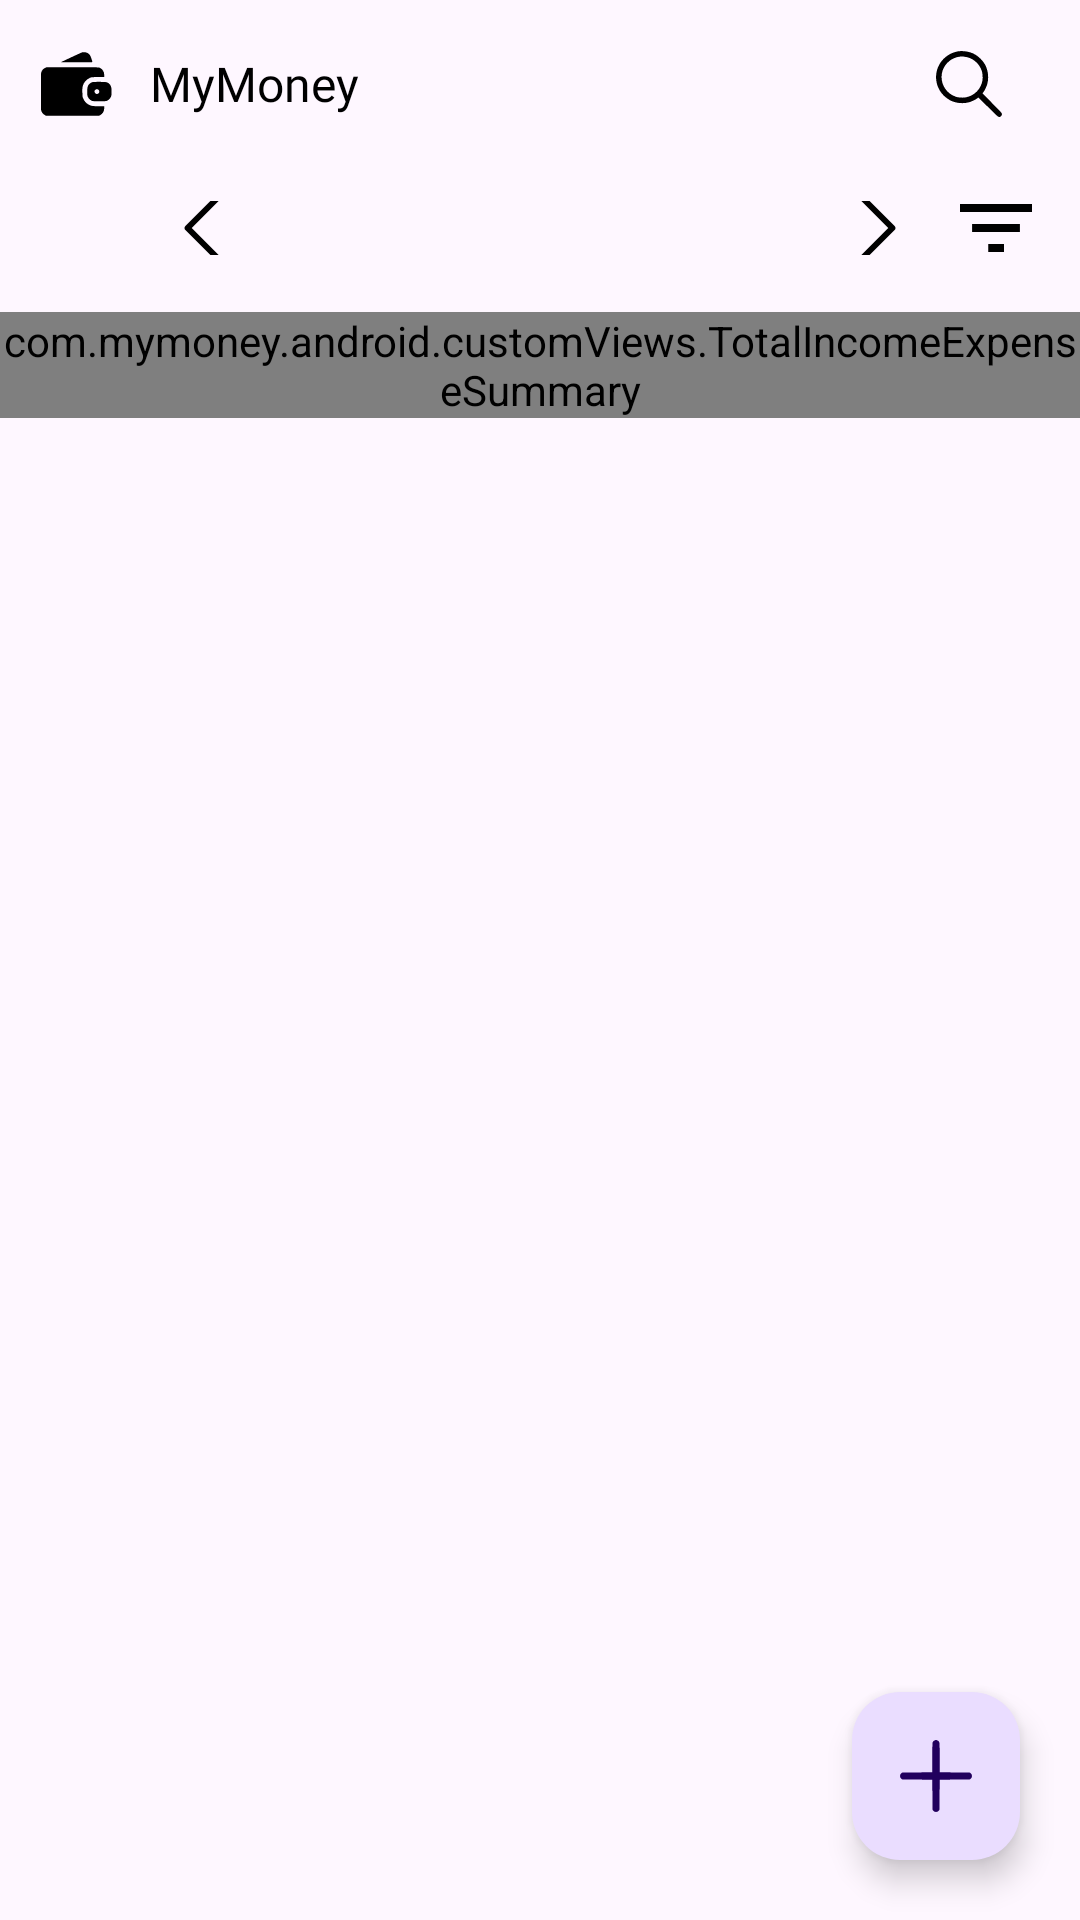

Icon click points for this 1080 x 1920 phone screenshot, format [x,y]:
filter: [996,228]
left arrow: [201,228]
plus: [936,1776]
right arrow: [878,228]
search: [969,84]
wallet: [76,84]
